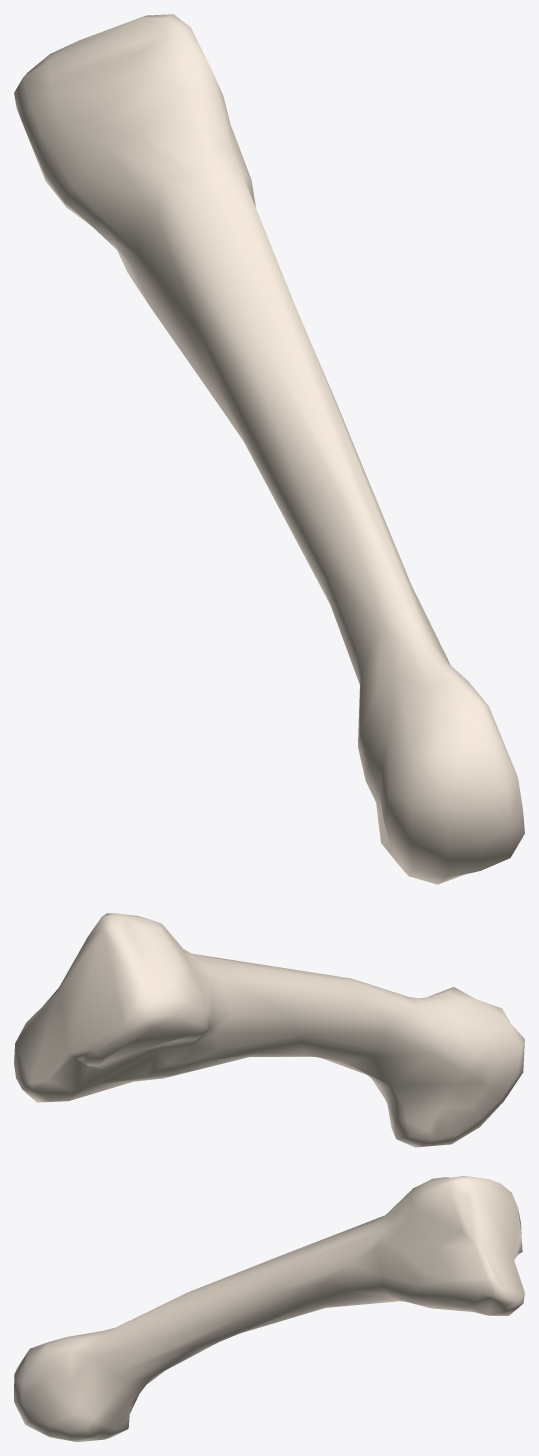
File: right_metatarsal_3.glb
3 views of the same model, one above another, from view 1: azimuth 30°, elevation 25°; view 2: azimuth 150°, elevation 25°; view 3: azimuth 270°, elevation 25° (orthographic). The views are drawn at different scales.
Visible parts, largest first — view 1: Third metatarsal bone.r; view 2: Third metatarsal bone.r; view 3: Third metatarsal bone.r.
Part boxes in pixels (left/top/right/bottom): Third metatarsal bone.r: left=14, top=14, right=524, bottom=884; Third metatarsal bone.r: left=14, top=913, right=524, bottom=1147; Third metatarsal bone.r: left=14, top=1176, right=524, bottom=1441.
Bounding box in the file's own units: 0.0218 × 0.042 × 0.0672.
